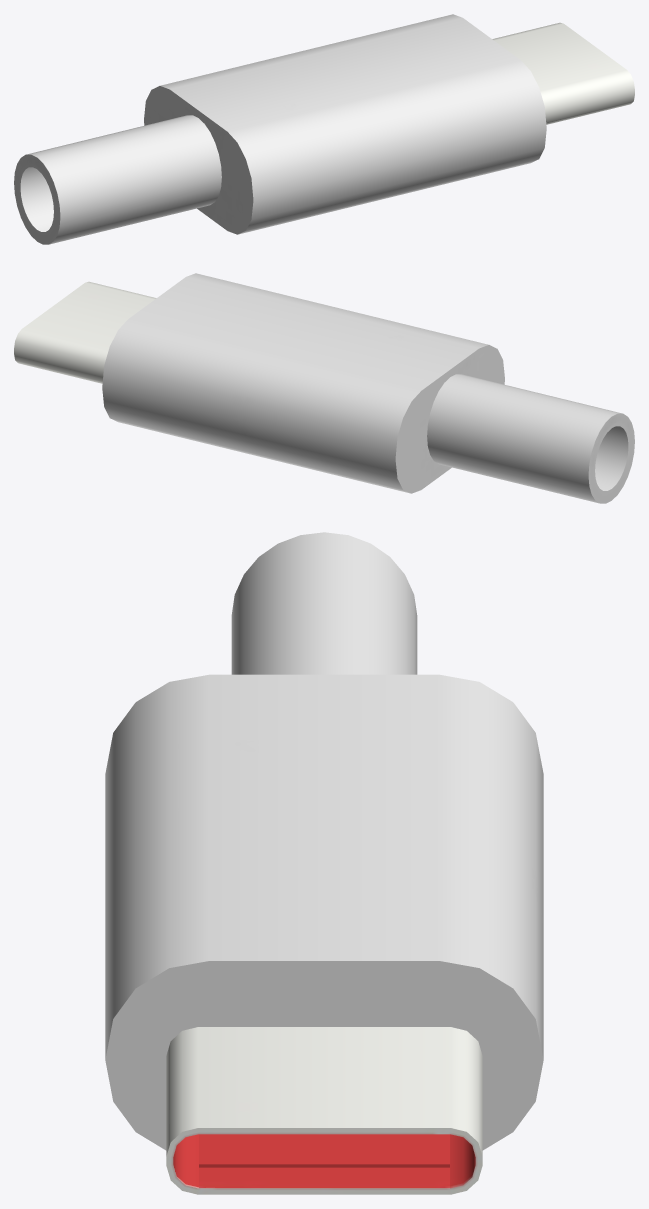
File: Phone Charger Pin.fbx
The picture shows the model from 3 angles, top to bottom: view 1: azimuth 30°, elevation 25°; view 2: azimuth 150°, elevation 25°; view 3: azimuth 270°, elevation 25°; orthographic projection. The views are drawn at different scales.
Parts seen in each view (by area): view 1: ____________________________________3_low_Material_001_0, __________________________________________2_low_Material_001, ____________________________________4_low_Material_001_0; view 2: ____________________________________3_low_Material_001_0, __________________________________________2_low_Material_001, ____________________________________4_low_Material_001_0; view 3: ____________________________________3_low_Material_001_0, ____________________________________4_low_Material_001_0, __________________________________________2_low_Material_001.
Boxes of the visible parts, box(x1,y1,x2,y2) form: ____________________________________3_low_Material_001_0: box(144, 14, 546, 234); __________________________________________2_low_Material_001: box(14, 115, 221, 244); ____________________________________4_low_Material_001_0: box(492, 22, 634, 124); ____________________________________3_low_Material_001_0: box(102, 273, 504, 493); __________________________________________2_low_Material_001: box(427, 374, 634, 503); ____________________________________4_low_Material_001_0: box(14, 281, 156, 383); ____________________________________3_low_Material_001_0: box(105, 674, 543, 1150); ____________________________________4_low_Material_001_0: box(166, 1027, 482, 1194); __________________________________________2_low_Material_001: box(231, 532, 417, 674).
Bounding box in the file's own units: 4269 × 726 × 1451.
Materials: 1 (1 with a texture image).
